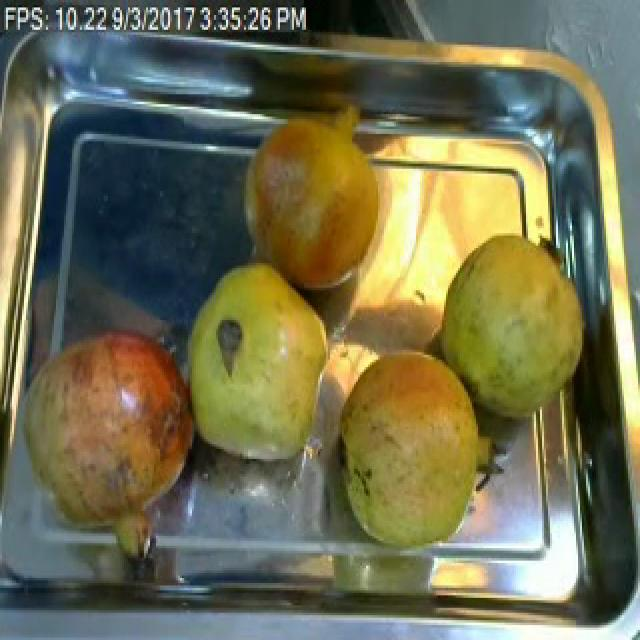fruit: (6, 308, 210, 580), (330, 330, 512, 563), (176, 246, 342, 481), (428, 213, 594, 432), (230, 99, 398, 305)
